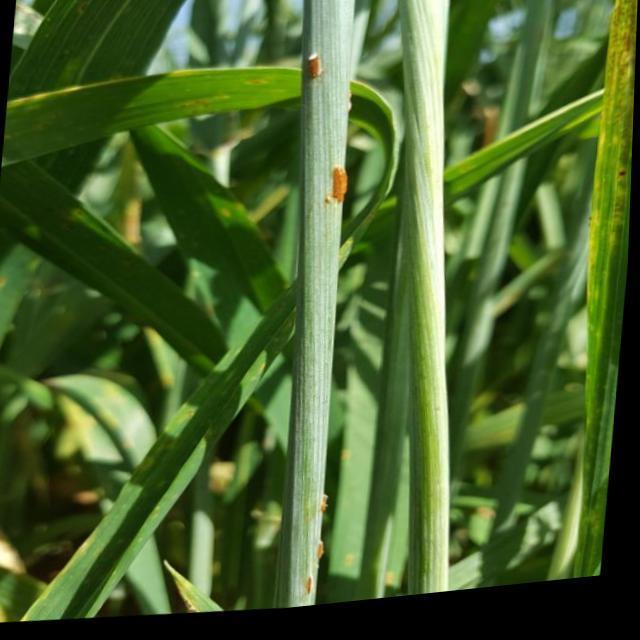Stem_Rust: (293, 18, 358, 610)
